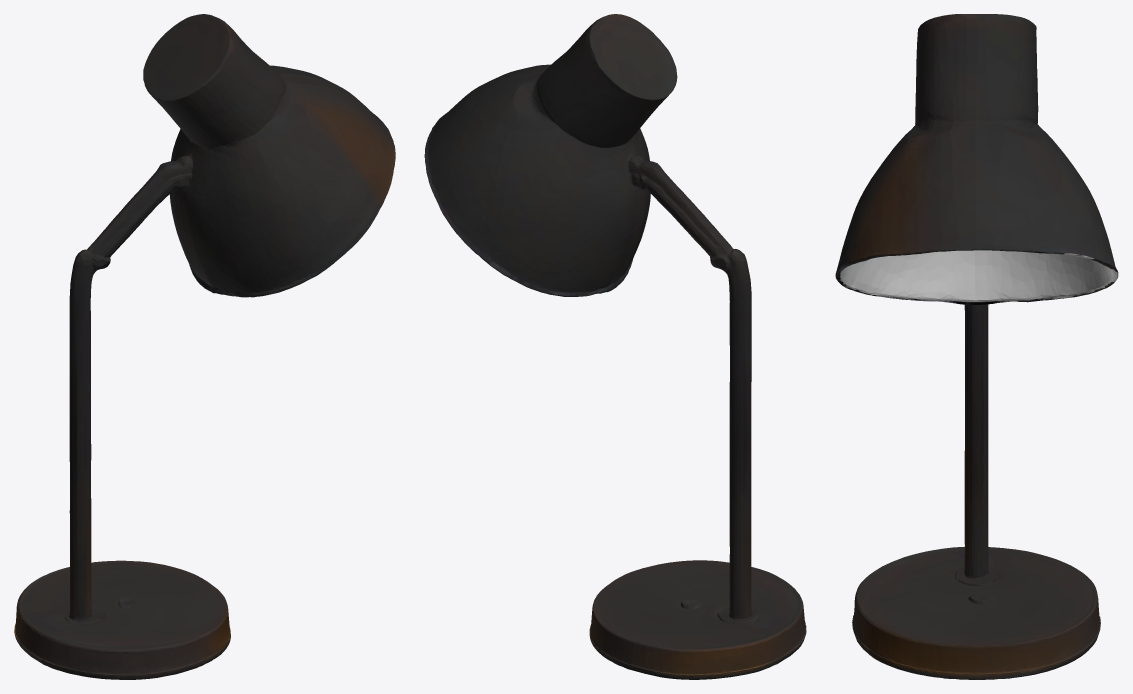
The picture shows the model from 3 angles, left to right: view 1: azimuth 30°, elevation 25°; view 2: azimuth 150°, elevation 25°; view 3: azimuth 270°, elevation 25°; orthographic projection. The views are drawn at different scales.
Visible parts, largest first — view 1: lamp.obj; view 2: lamp.obj; view 3: lamp.obj.
Part boxes in pixels (x1,y1,x2,y2): lamp.obj: [14, 14, 395, 679]; lamp.obj: [424, 14, 806, 679]; lamp.obj: [835, 14, 1118, 679].
Size of the model in its own units: 0.2148 by 0.35 by 0.1341.
1 material, 1 textured.
